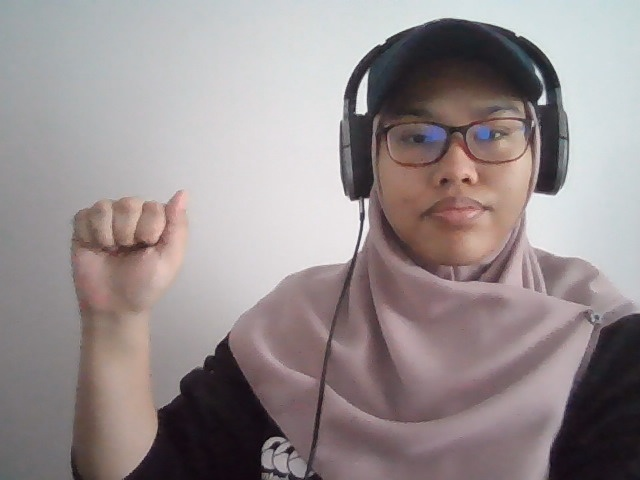a: (63, 184, 195, 319)
